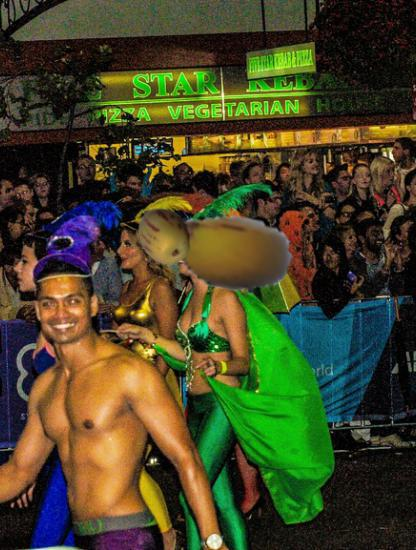Banana: (153, 183, 292, 322)
Pepino: (135, 208, 194, 267)
